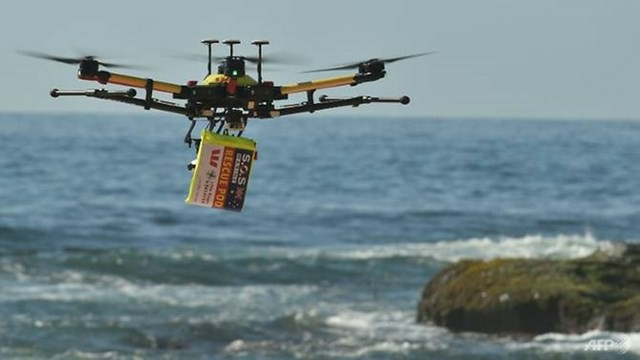maybay_khongnguoilai: (28, 32, 417, 140)
